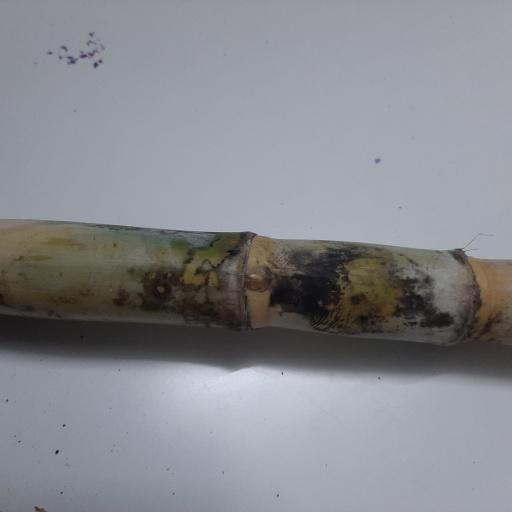Bud: (242, 270, 268, 290)
